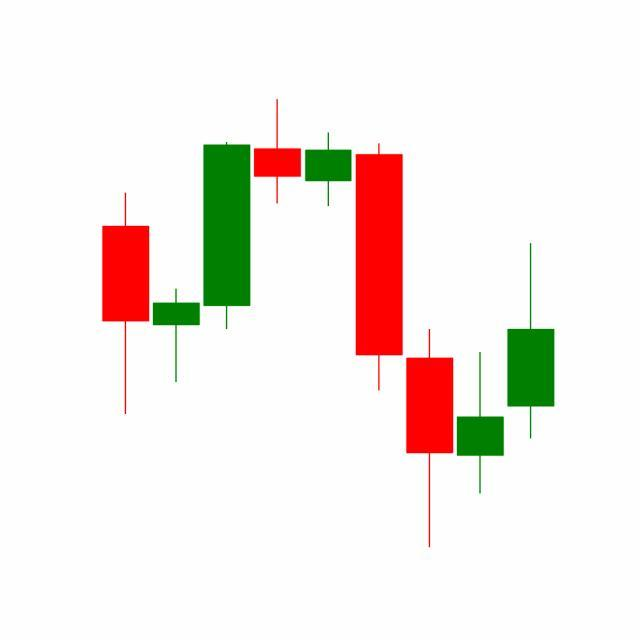Hikkake Pattern: (302, 128, 555, 548)
